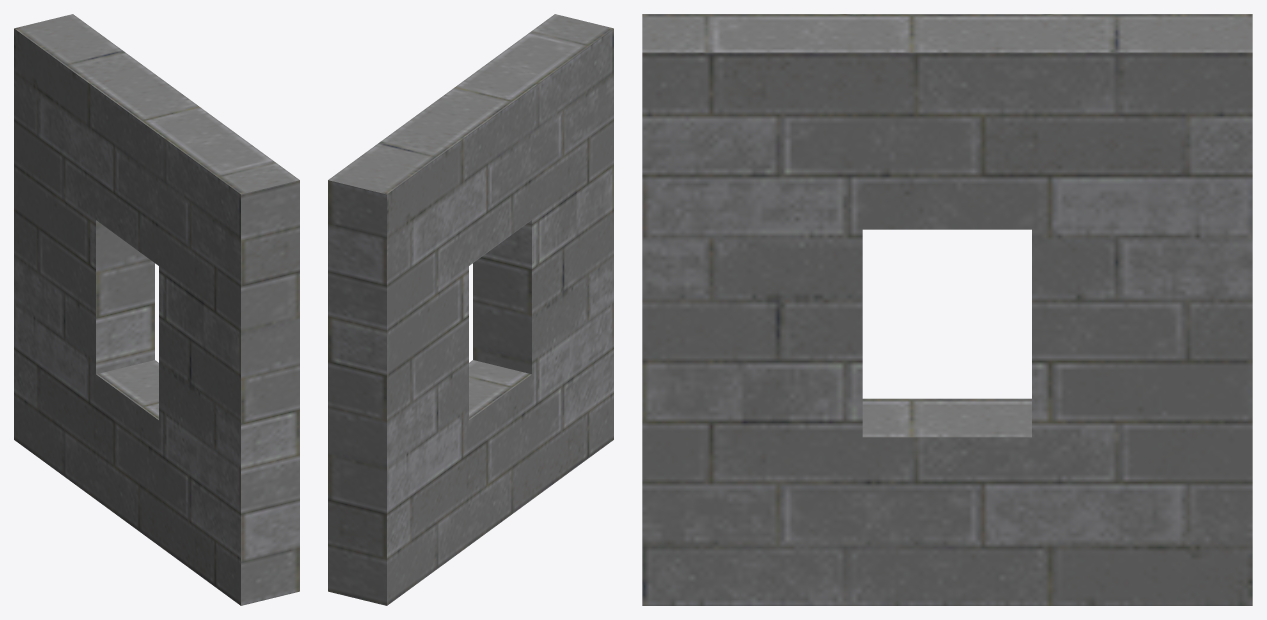
The model's file is mWallWindowBricksWhite01.obj.
3 views of the same model, side by side, from view 1: azimuth 30°, elevation 25°; view 2: azimuth 150°, elevation 25°; view 3: azimuth 270°, elevation 25° (orthographic). The views are drawn at different scales.
Visible parts, largest first — view 1: WallWindowBricksWhite01; view 2: WallWindowBricksWhite01; view 3: WallWindowBricksWhite01.
Part boxes in pixels (x1,y1,x2,y2): WallWindowBricksWhite01: [14, 14, 299, 605]; WallWindowBricksWhite01: [328, 14, 613, 605]; WallWindowBricksWhite01: [642, 14, 1252, 605].
Bounding box in the file's own units: 0.6 × 4 × 4.
